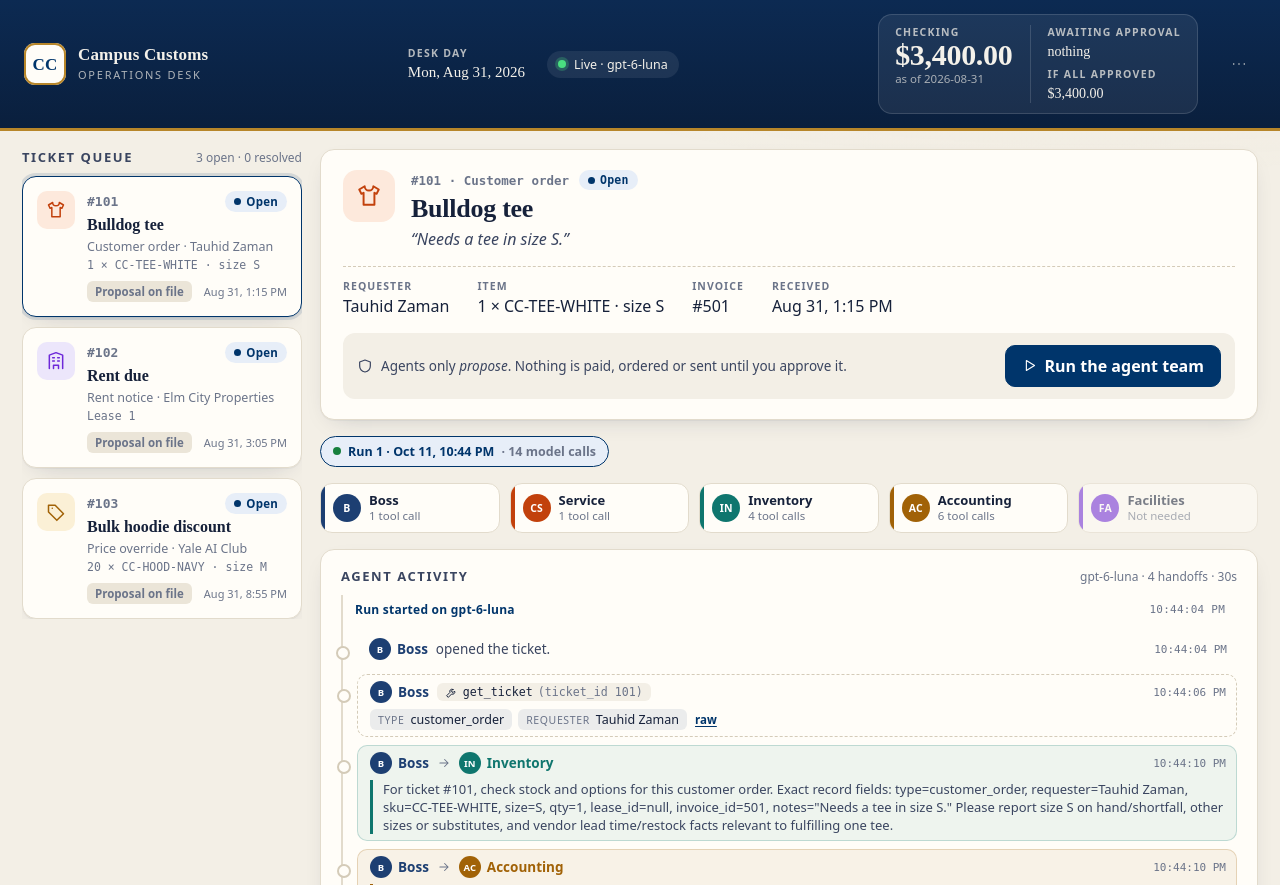
Scenario: dashboard › opens a case file with the real agent activity, crew report and handoffs, without sending anything
Expected: the heading "Bulldog tee" is shown, [411, 194, 533, 223]
Click the button "Rent due": (162, 398) [22, 327, 302, 468]
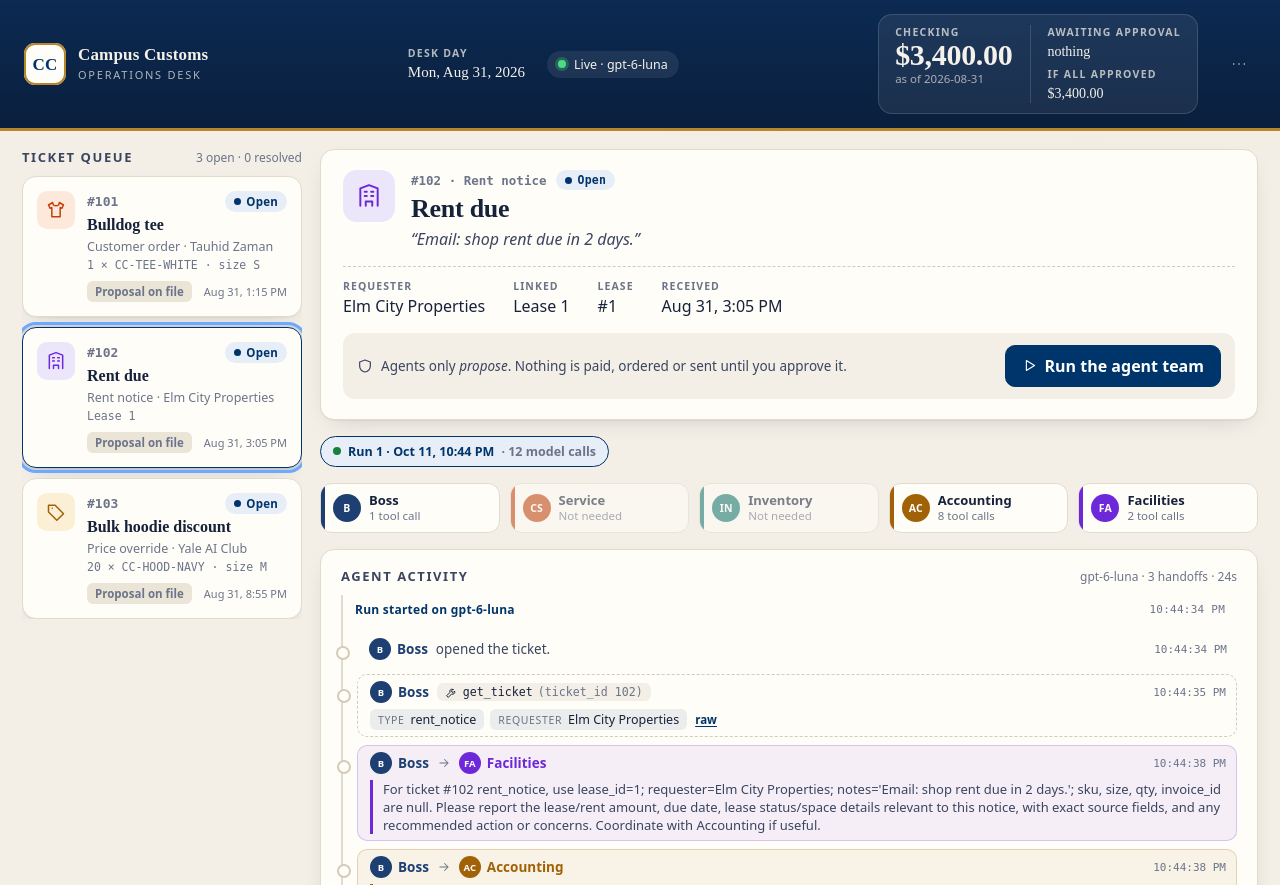
Expected: the heading "Rent due" is shown, [411, 194, 509, 223]
